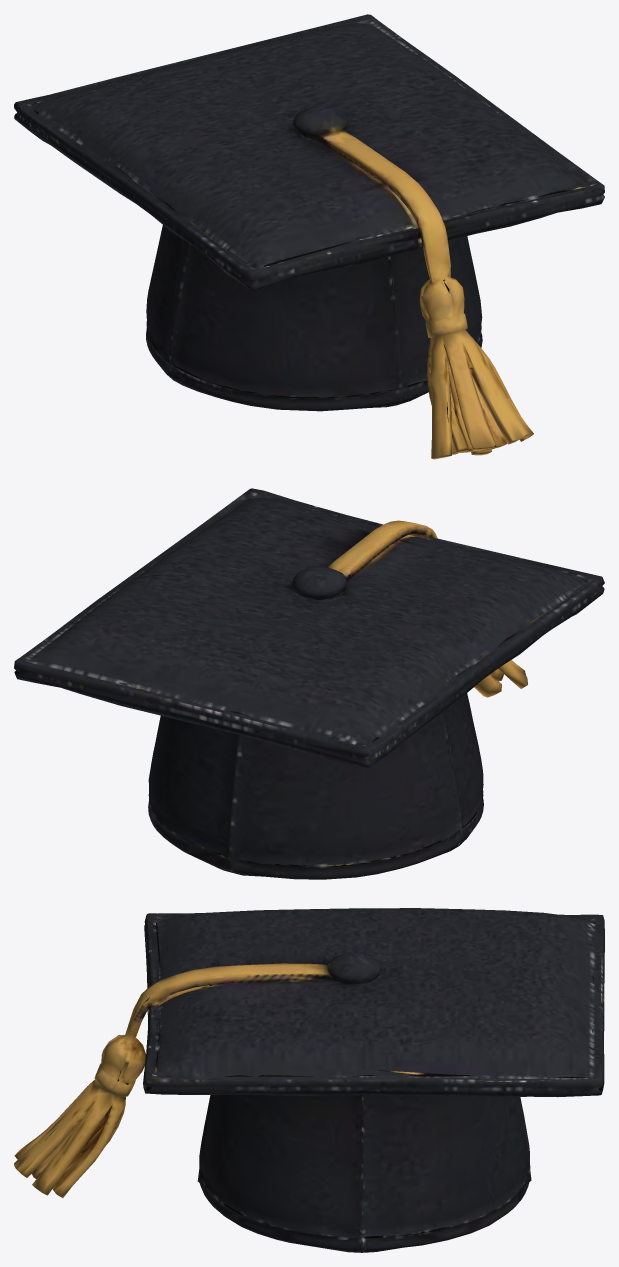
Rendered from mortarboard.glb.
3 renders of one model, top to bottom at view 1: azimuth 30°, elevation 25°; view 2: azimuth 150°, elevation 25°; view 3: azimuth 270°, elevation 25°, orthographic. The views are drawn at different scales.
Visible parts, largest first — view 1: node_0; view 2: node_0; view 3: node_0.
Boxes of the visible parts, x1=… form: node_0: x1=14, y1=14, x2=604, y2=459; node_0: x1=14, y1=488, x2=604, y2=879; node_0: x1=14, y1=908, x2=604, y2=1252.
Size of the model in its own units: 0.46 by 0.2915 by 0.6772.
Materials: 1 (1 with a texture image).
